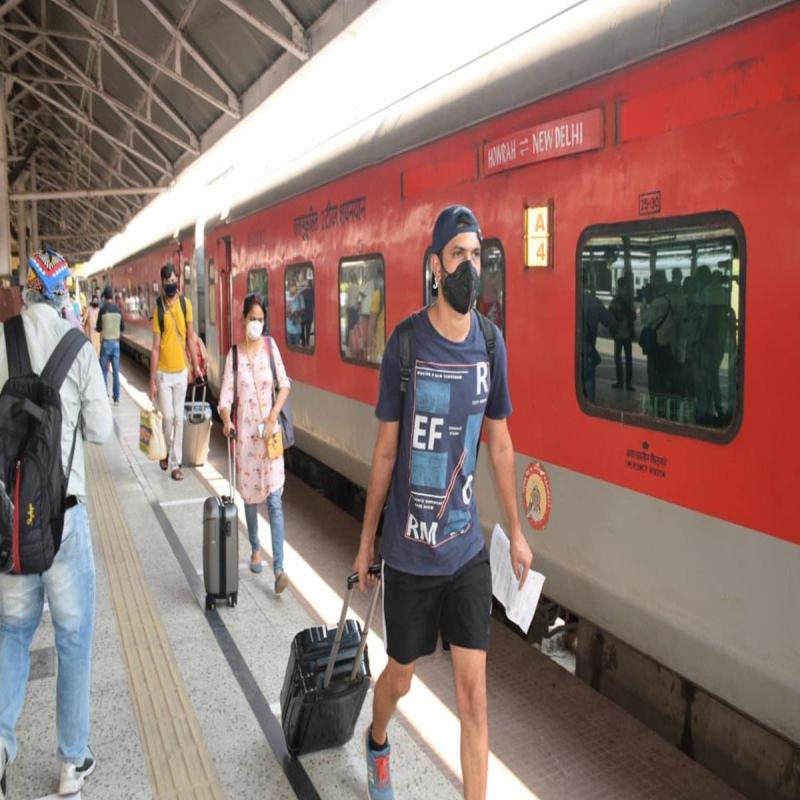train: (185, 125, 800, 651)
